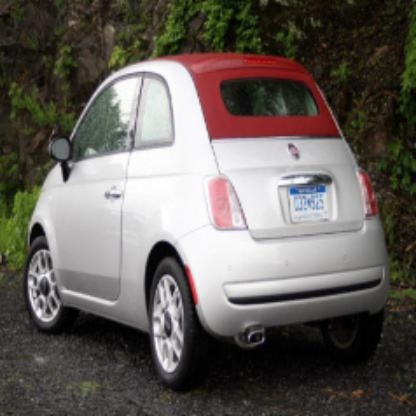Vehicle: (22, 56, 389, 391)
